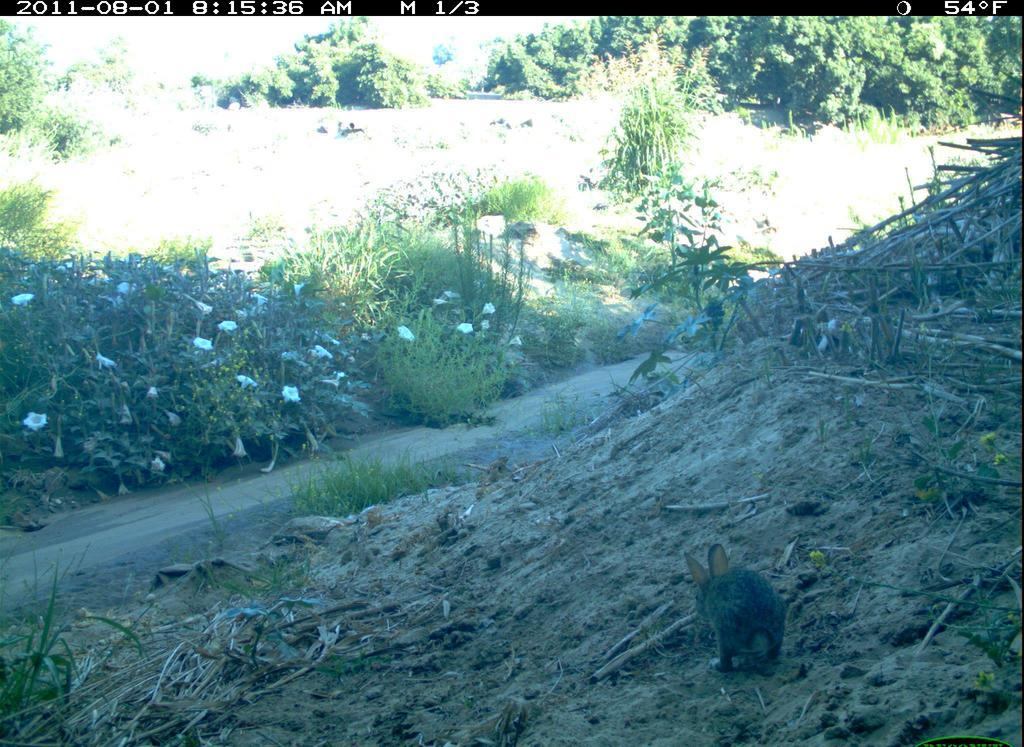rabbit: (676, 534, 806, 683)
